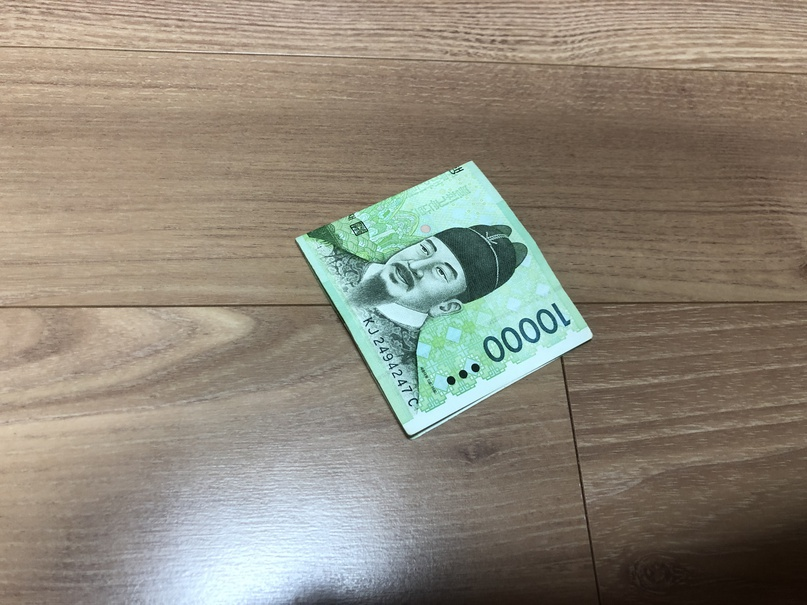10000won: (295, 163, 592, 440)
